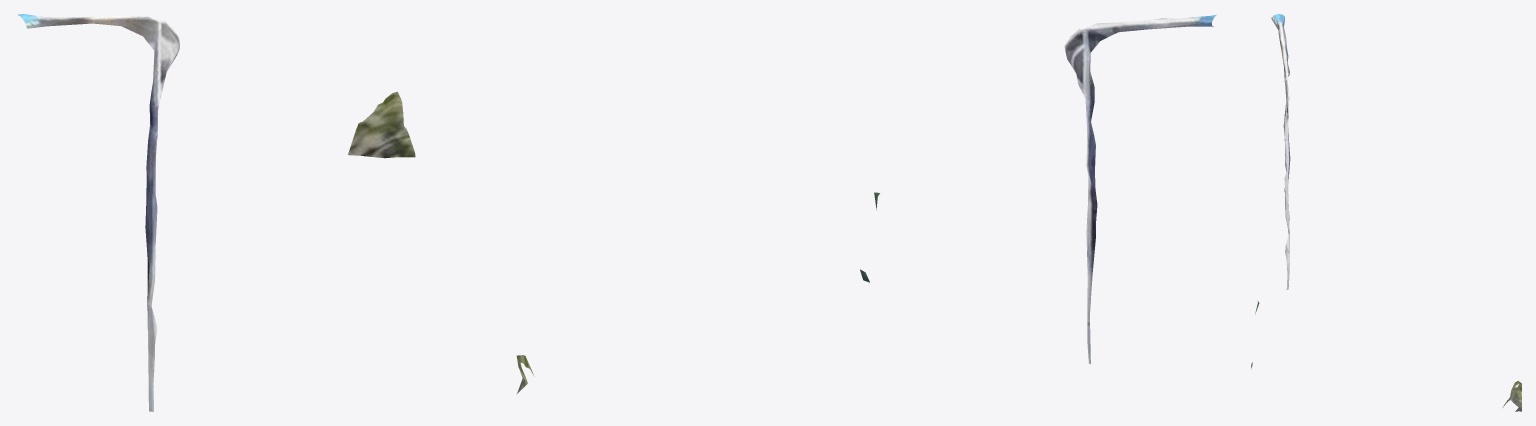
The model's file is Tile_+006_+007_L22_0000250.glb.
The picture shows the model from 3 angles, left to right: view 1: azimuth 30°, elevation 25°; view 2: azimuth 150°, elevation 25°; view 3: azimuth 270°, elevation 25°; orthographic projection. The views are drawn at different scales.
Visible parts, largest first — view 1: rtc; view 2: rtc; view 3: rtc.
Part boxes in pixels (x1=…): rtc: x1=17, y1=14, x2=415, y2=411; rtc: x1=516, y1=14, x2=1216, y2=394; rtc: x1=1251, y1=14, x2=1521, y2=411.
Size of the model in its own units: 8.78 by 6.11 by 6.29.
1 material, 1 textured.
